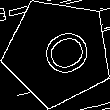O_SW: (25, 21, 91, 83)
